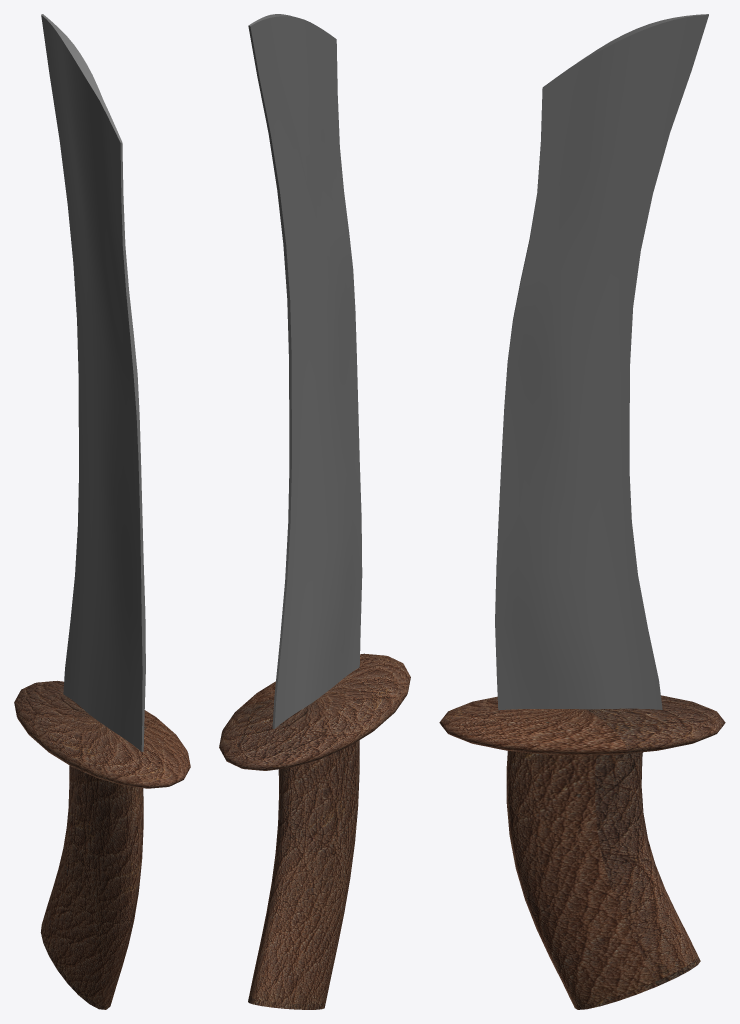
The model's file is machete.fbx.
The picture shows the model from 3 angles, left to right: view 1: azimuth 30°, elevation 25°; view 2: azimuth 150°, elevation 25°; view 3: azimuth 270°, elevation 25°; orthographic projection. The views are drawn at different scales.
Visible parts, largest first — view 1: pCube1, pCylinder1, pSphere1; view 2: pCube1, pCylinder1, pSphere1; view 3: pCube1, pCylinder1, pSphere1.
Boxes of the visible parts, x1,y1,x2,y2 form: pCube1: (41,14,145,751); pCylinder1: (40,765,143,1009); pSphere1: (14,680,190,788); pCube1: (248,14,362,729); pCylinder1: (248,740,359,1009); pSphere1: (219,653,410,770); pCube1: (495,14,708,710); pCylinder1: (506,751,700,1009); pSphere1: (439,695,725,755).
Size of the model in its own units: 2 by 16.1 by 4.2.
2 materials, 1 textured.
